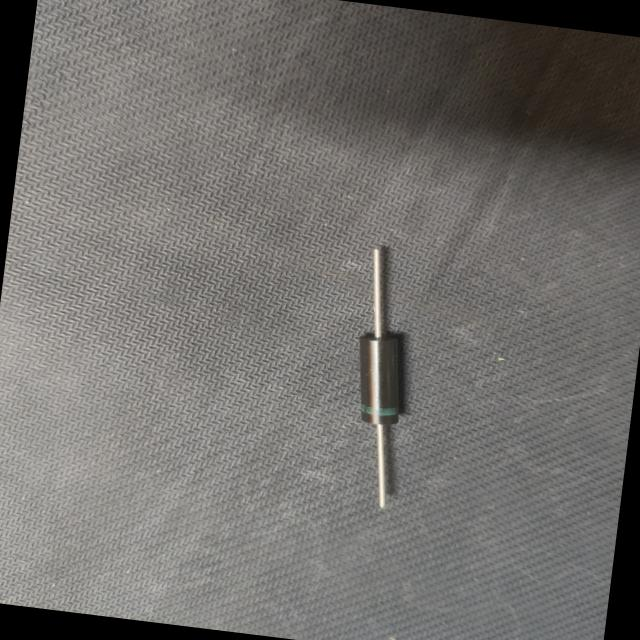resistor: (303, 225, 443, 522)
